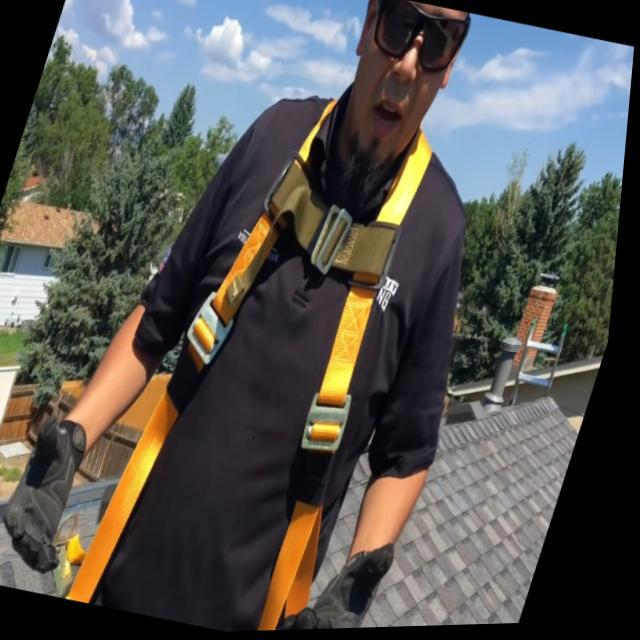belt: (64, 48, 484, 638)
